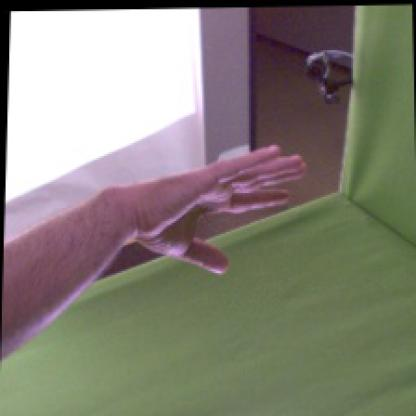Hand: (103, 144, 309, 276)
